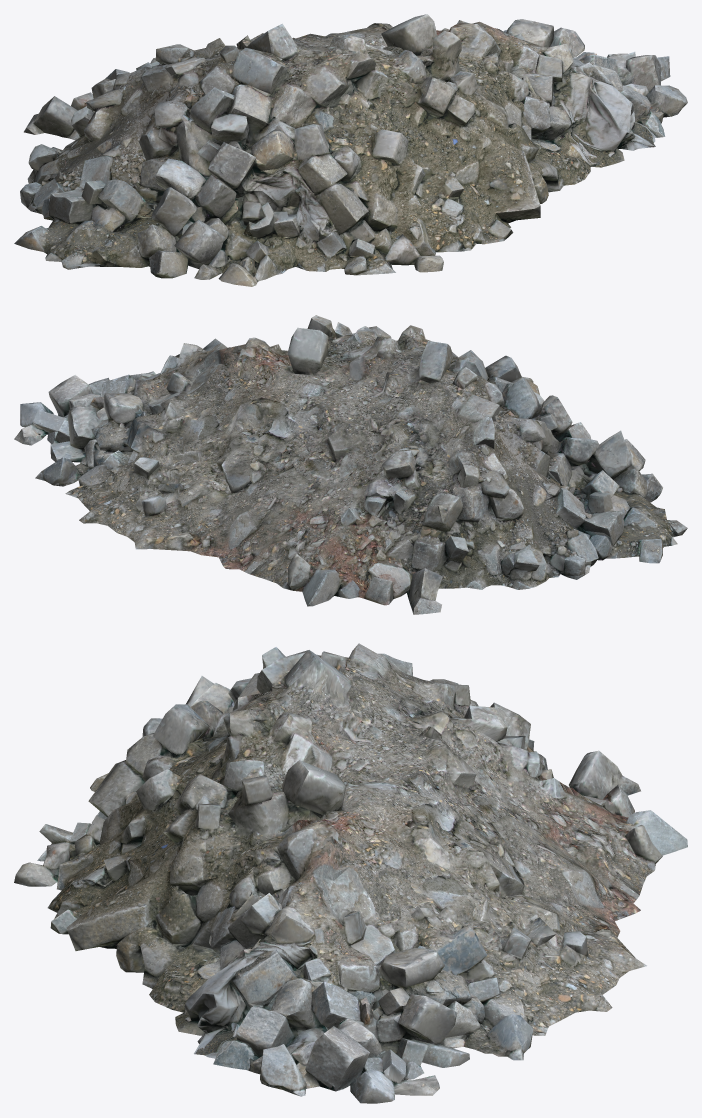
File: SM_Rubble_02_01.fbx
3 renders of one model, top to bottom at view 1: azimuth 30°, elevation 25°; view 2: azimuth 150°, elevation 25°; view 3: azimuth 270°, elevation 25°, orthographic. The views are drawn at different scales.
Parts seen in each view (by area): view 1: sm_Rubble_02_01_LOD0; view 2: sm_Rubble_02_01_LOD0; view 3: sm_Rubble_02_01_LOD0.
Boxes of the visible parts, box(x1,y1,x2,y2) form: sm_Rubble_02_01_LOD0: box(14, 14, 687, 286); sm_Rubble_02_01_LOD0: box(14, 315, 687, 614); sm_Rubble_02_01_LOD0: box(14, 643, 687, 1103).
Size of the model in its own units: 199 by 278 by 65.93.
